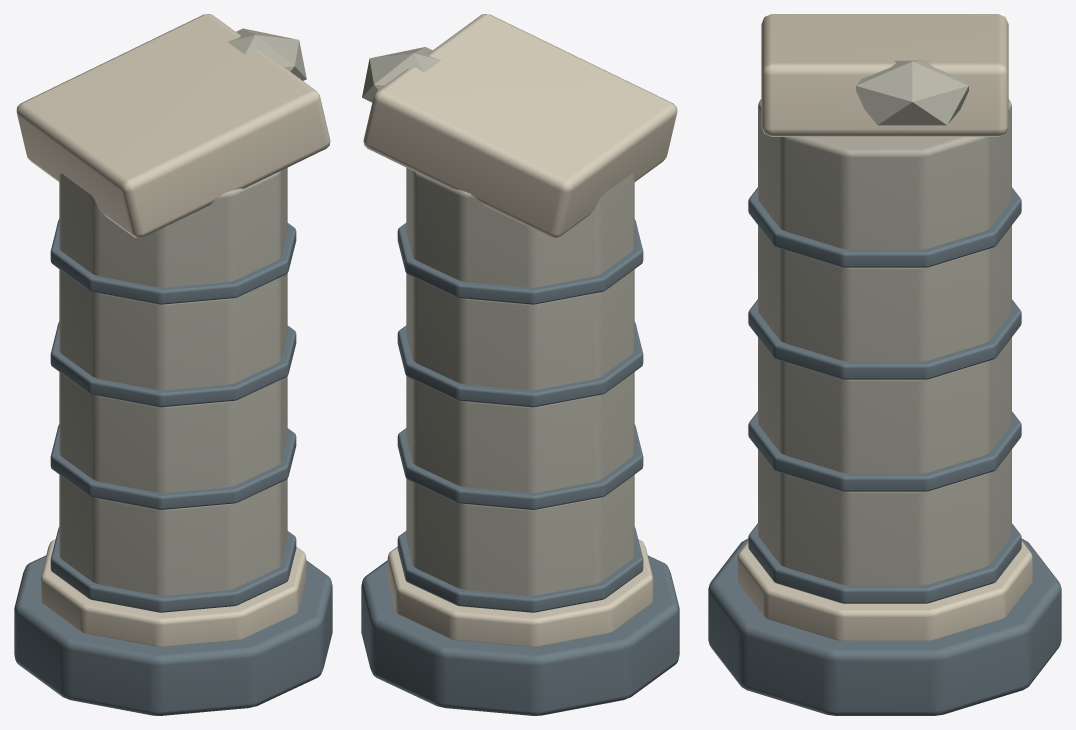
File: SM_RuinPillar_Broken_01.fbx
The picture shows the model from 3 angles, left to right: view 1: azimuth 30°, elevation 25°; view 2: azimuth 150°, elevation 25°; view 3: azimuth 270°, elevation 25°; orthographic projection. The views are drawn at different scales.
Visible parts, largest first — view 1: SM_RuinPillar_Broken_01; view 2: SM_RuinPillar_Broken_01; view 3: SM_RuinPillar_Broken_01.
Boxes of the visible parts, x1,y1,x2,y2 form: SM_RuinPillar_Broken_01: (14,14,332,715); SM_RuinPillar_Broken_01: (361,14,679,715); SM_RuinPillar_Broken_01: (708,14,1061,715).
Bounding box in the file's own units: 1.5 × 3.07 × 1.55.
